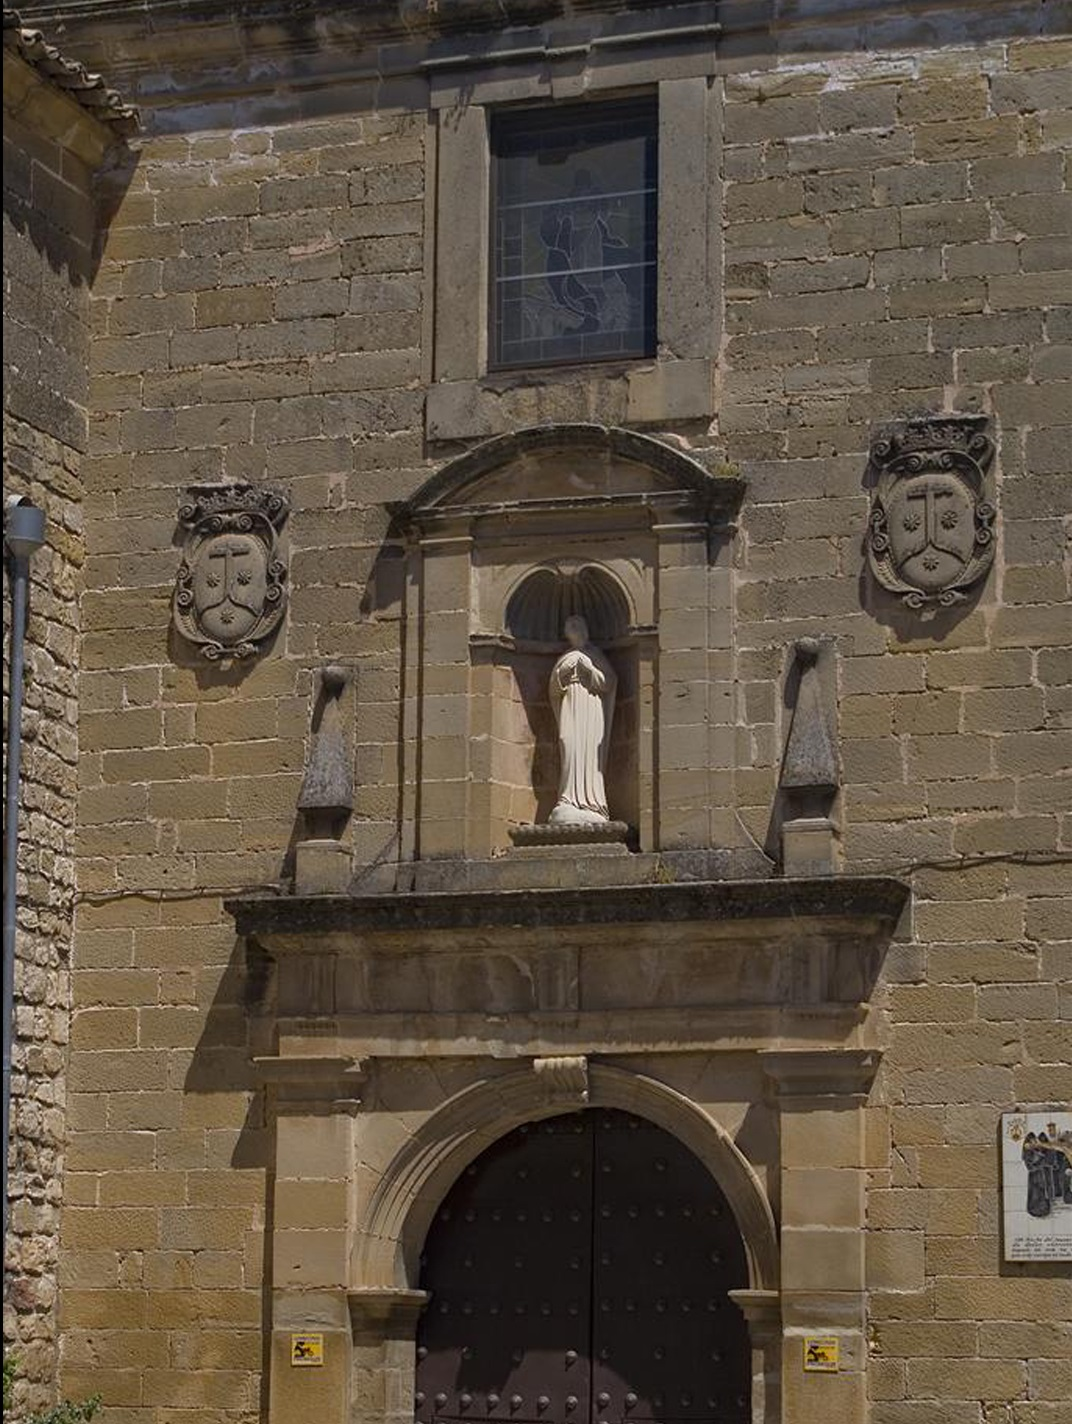arco-medio-punto: (388, 1083, 772, 1351)
fronton-curvo: (395, 417, 724, 531)
vano-adintelado: (413, 11, 730, 389)
